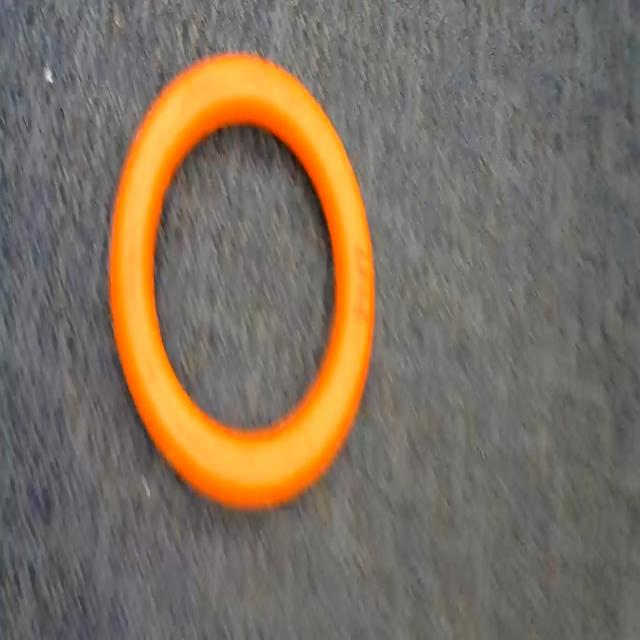note: (106, 40, 383, 524)
